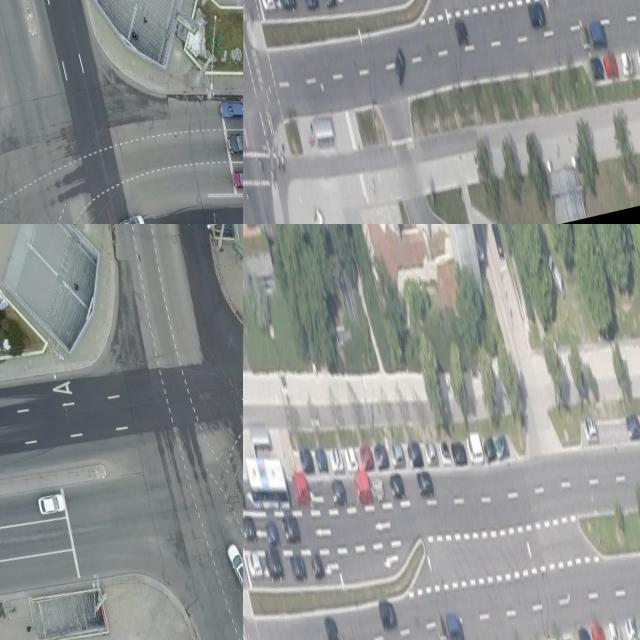UAI: (545, 250, 567, 300), (224, 539, 243, 596), (389, 45, 410, 87), (289, 468, 311, 507), (264, 545, 286, 583), (351, 470, 373, 507), (36, 491, 68, 516), (464, 430, 485, 465), (217, 95, 243, 123), (377, 597, 398, 631), (280, 512, 301, 545), (245, 547, 265, 581), (404, 436, 424, 470), (414, 467, 435, 499), (526, 0, 547, 30), (444, 610, 465, 640), (288, 552, 308, 583), (328, 476, 348, 507), (224, 126, 243, 158), (588, 21, 608, 50), (488, 224, 504, 260), (581, 414, 599, 444), (372, 442, 390, 471), (264, 518, 281, 548), (308, 550, 325, 580), (358, 442, 375, 472), (388, 472, 406, 500), (623, 411, 640, 440), (327, 444, 344, 473), (622, 613, 640, 640), (243, 513, 258, 545), (342, 443, 358, 473), (313, 445, 329, 475), (493, 432, 510, 460), (388, 441, 405, 469), (449, 440, 467, 466), (618, 47, 634, 76), (481, 433, 497, 462), (602, 52, 619, 78), (322, 614, 339, 640), (453, 19, 469, 46), (422, 438, 438, 465), (298, 446, 314, 473), (589, 54, 605, 80), (370, 476, 385, 503), (605, 617, 622, 640), (438, 438, 452, 465), (117, 212, 147, 224), (230, 166, 243, 193), (434, 615, 448, 640), (589, 622, 606, 640), (576, 623, 593, 640), (579, 27, 591, 49), (276, 0, 297, 12), (300, 0, 319, 11), (258, 0, 276, 11), (320, 0, 337, 9), (635, 43, 640, 71)
car: (243, 447, 292, 516)
